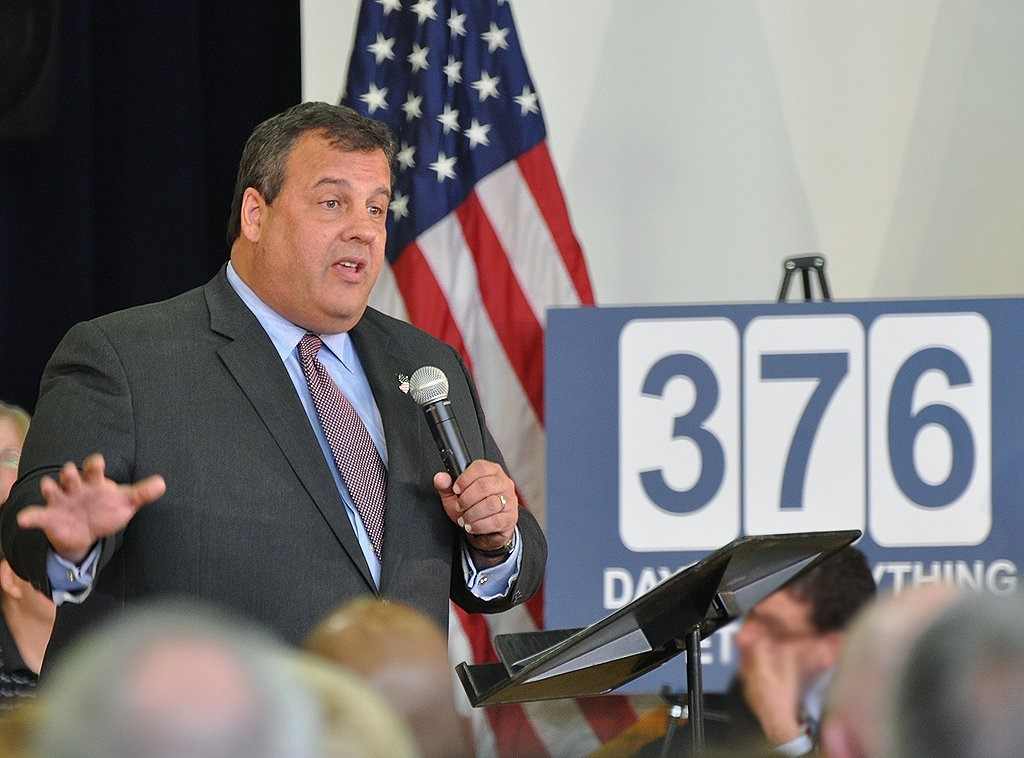face_no_mask: (233, 102, 390, 320)
